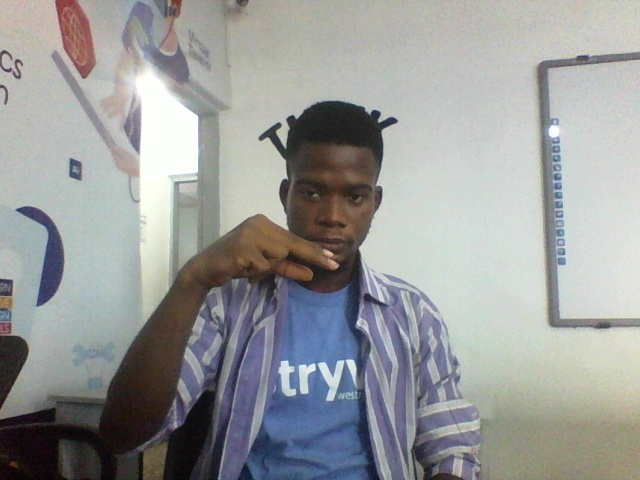no: (187, 212, 344, 303)
